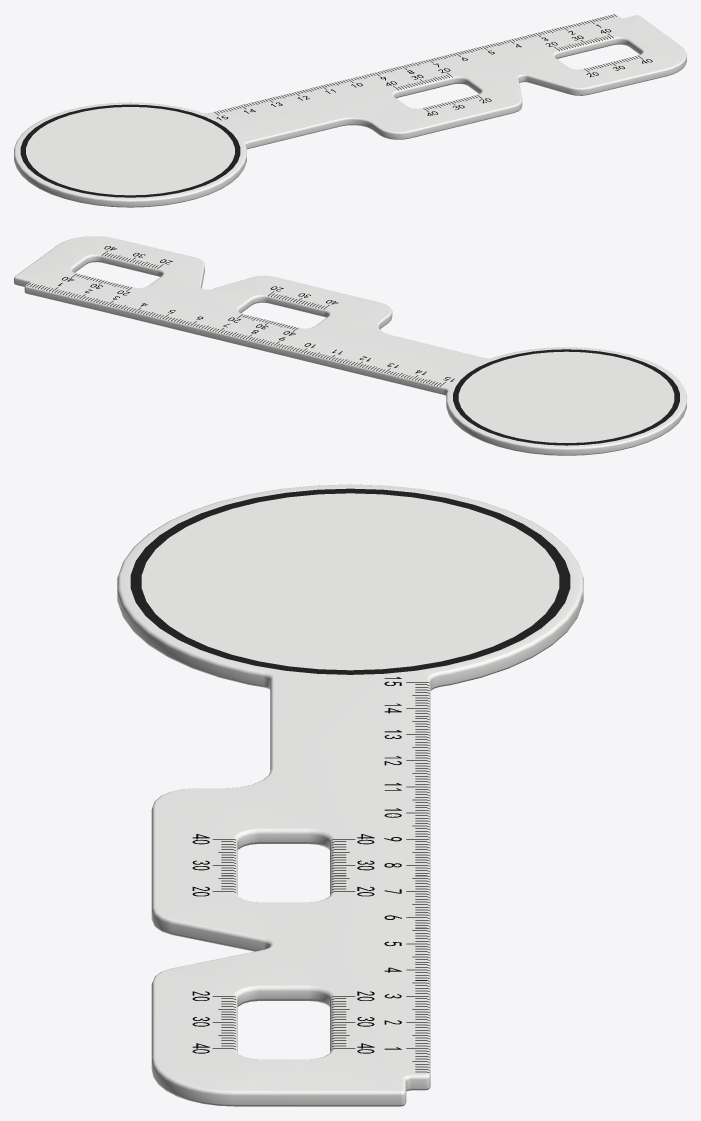
The model's file is tongJvCeLiangChi.fbx.
3 renders of one model, top to bottom at view 1: azimuth 30°, elevation 25°; view 2: azimuth 150°, elevation 25°; view 3: azimuth 270°, elevation 25°, orthographic. The views are drawn at different scales.
Parts seen in each view (by area): view 1: tongJvCeLiangChi_Mesh, plane_tongJvCeLiangChi_Mesh; view 2: tongJvCeLiangChi_Mesh, plane_tongJvCeLiangChi_Mesh; view 3: tongJvCeLiangChi_Mesh, plane_tongJvCeLiangChi_Mesh.
Boxes of the visible parts, box(x1,y1,x2,y2) form: tongJvCeLiangChi_Mesh: box(14, 14, 686, 207); plane_tongJvCeLiangChi_Mesh: box(214, 14, 652, 120); tongJvCeLiangChi_Mesh: box(14, 236, 686, 455); plane_tongJvCeLiangChi_Mesh: box(27, 246, 454, 386); tongJvCeLiangChi_Mesh: box(117, 484, 583, 1106); plane_tongJvCeLiangChi_Mesh: box(192, 677, 429, 1072).
Bounding box in the file's own units: 23.24 × 0.304 × 7.53.
